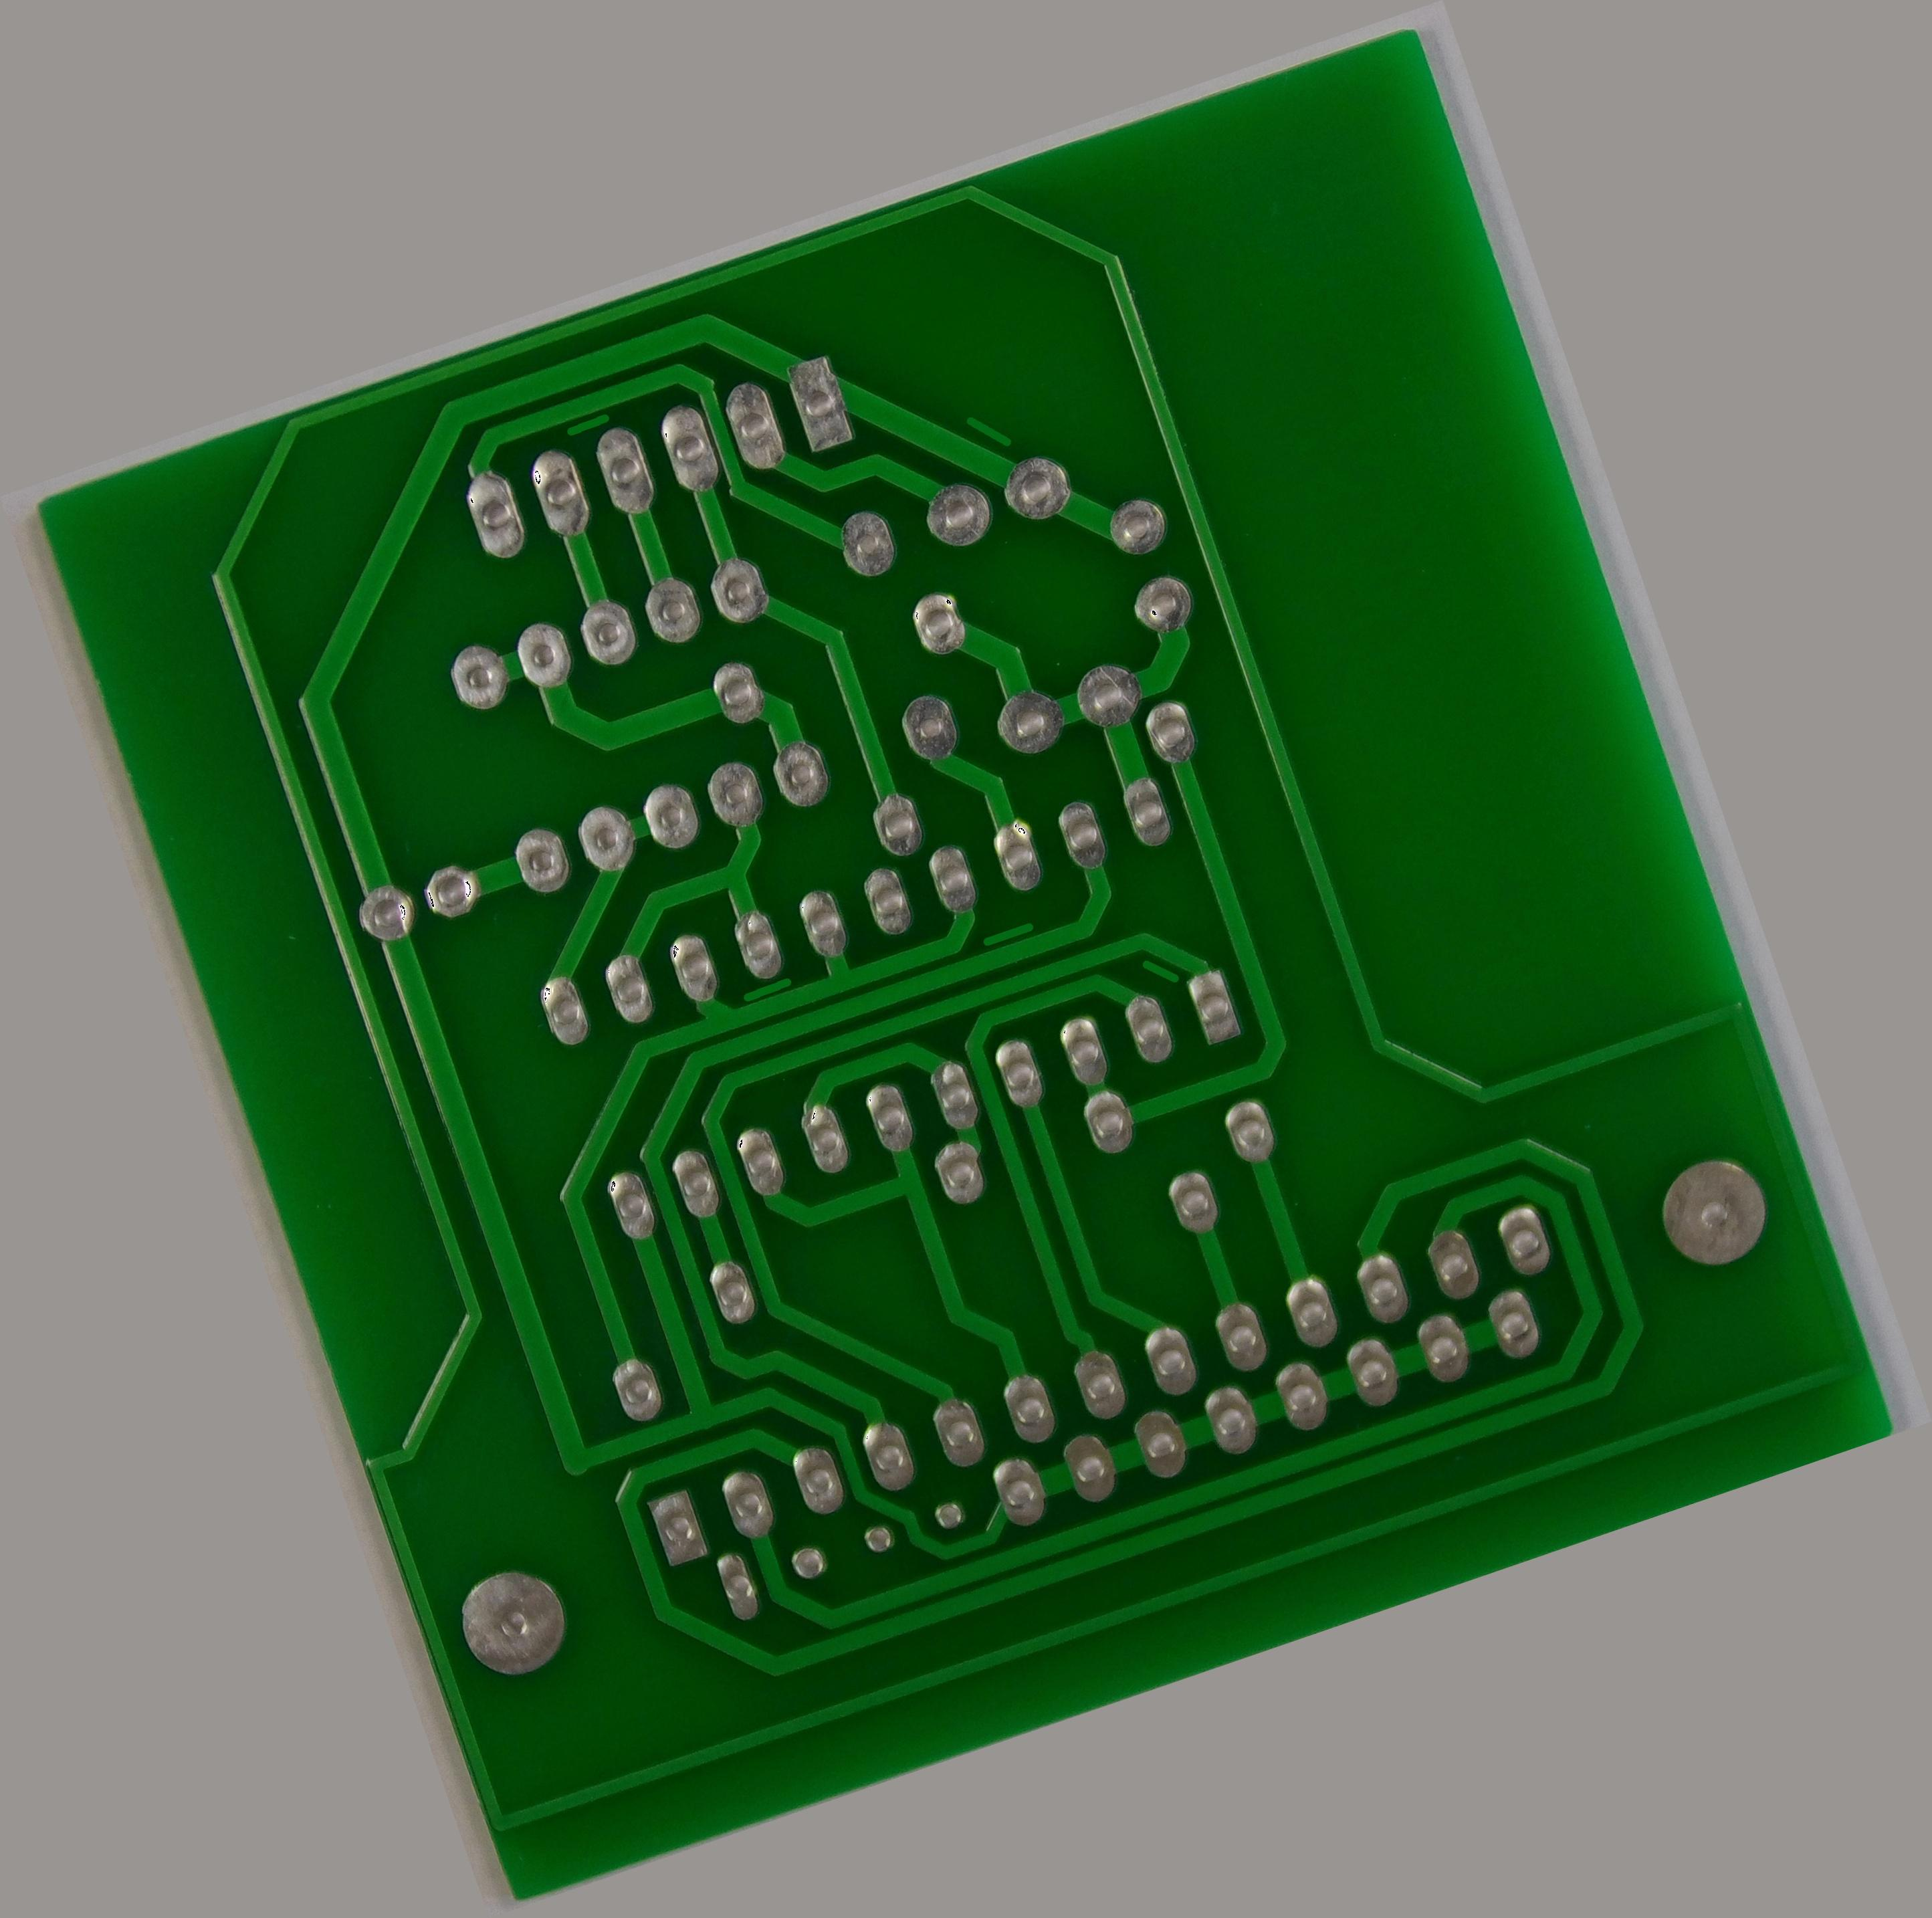spurious_copper: (952, 393, 1020, 465), (546, 393, 625, 453), (966, 908, 1047, 961), (731, 961, 803, 1015), (1128, 943, 1191, 1005)
